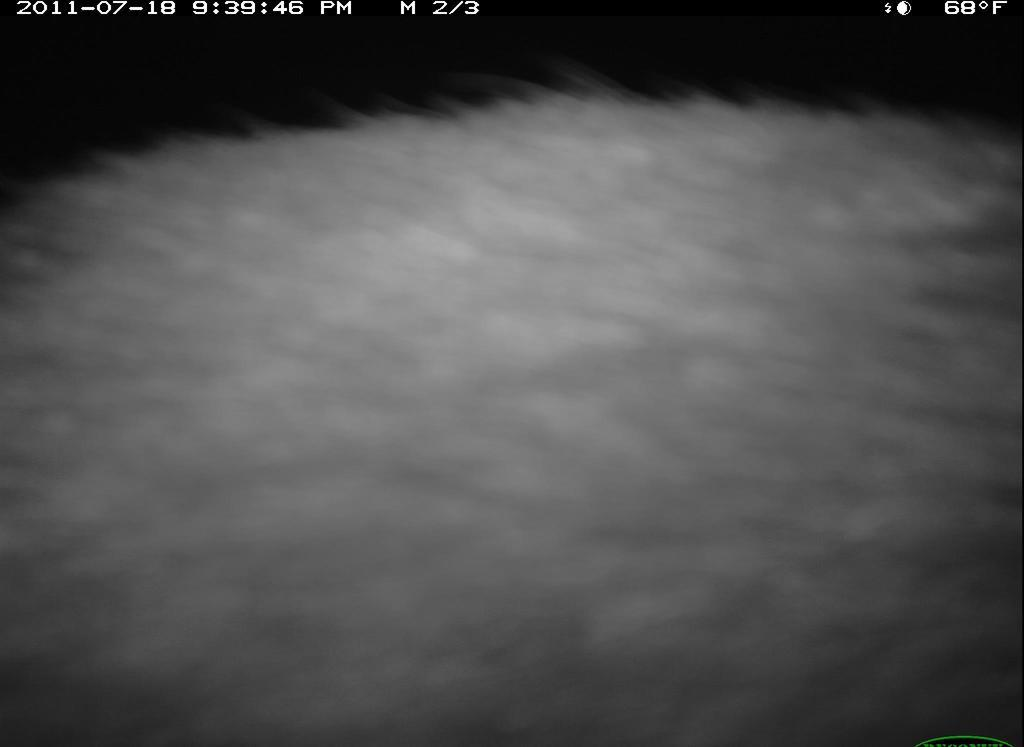raccoon: (17, 105, 1015, 747)
